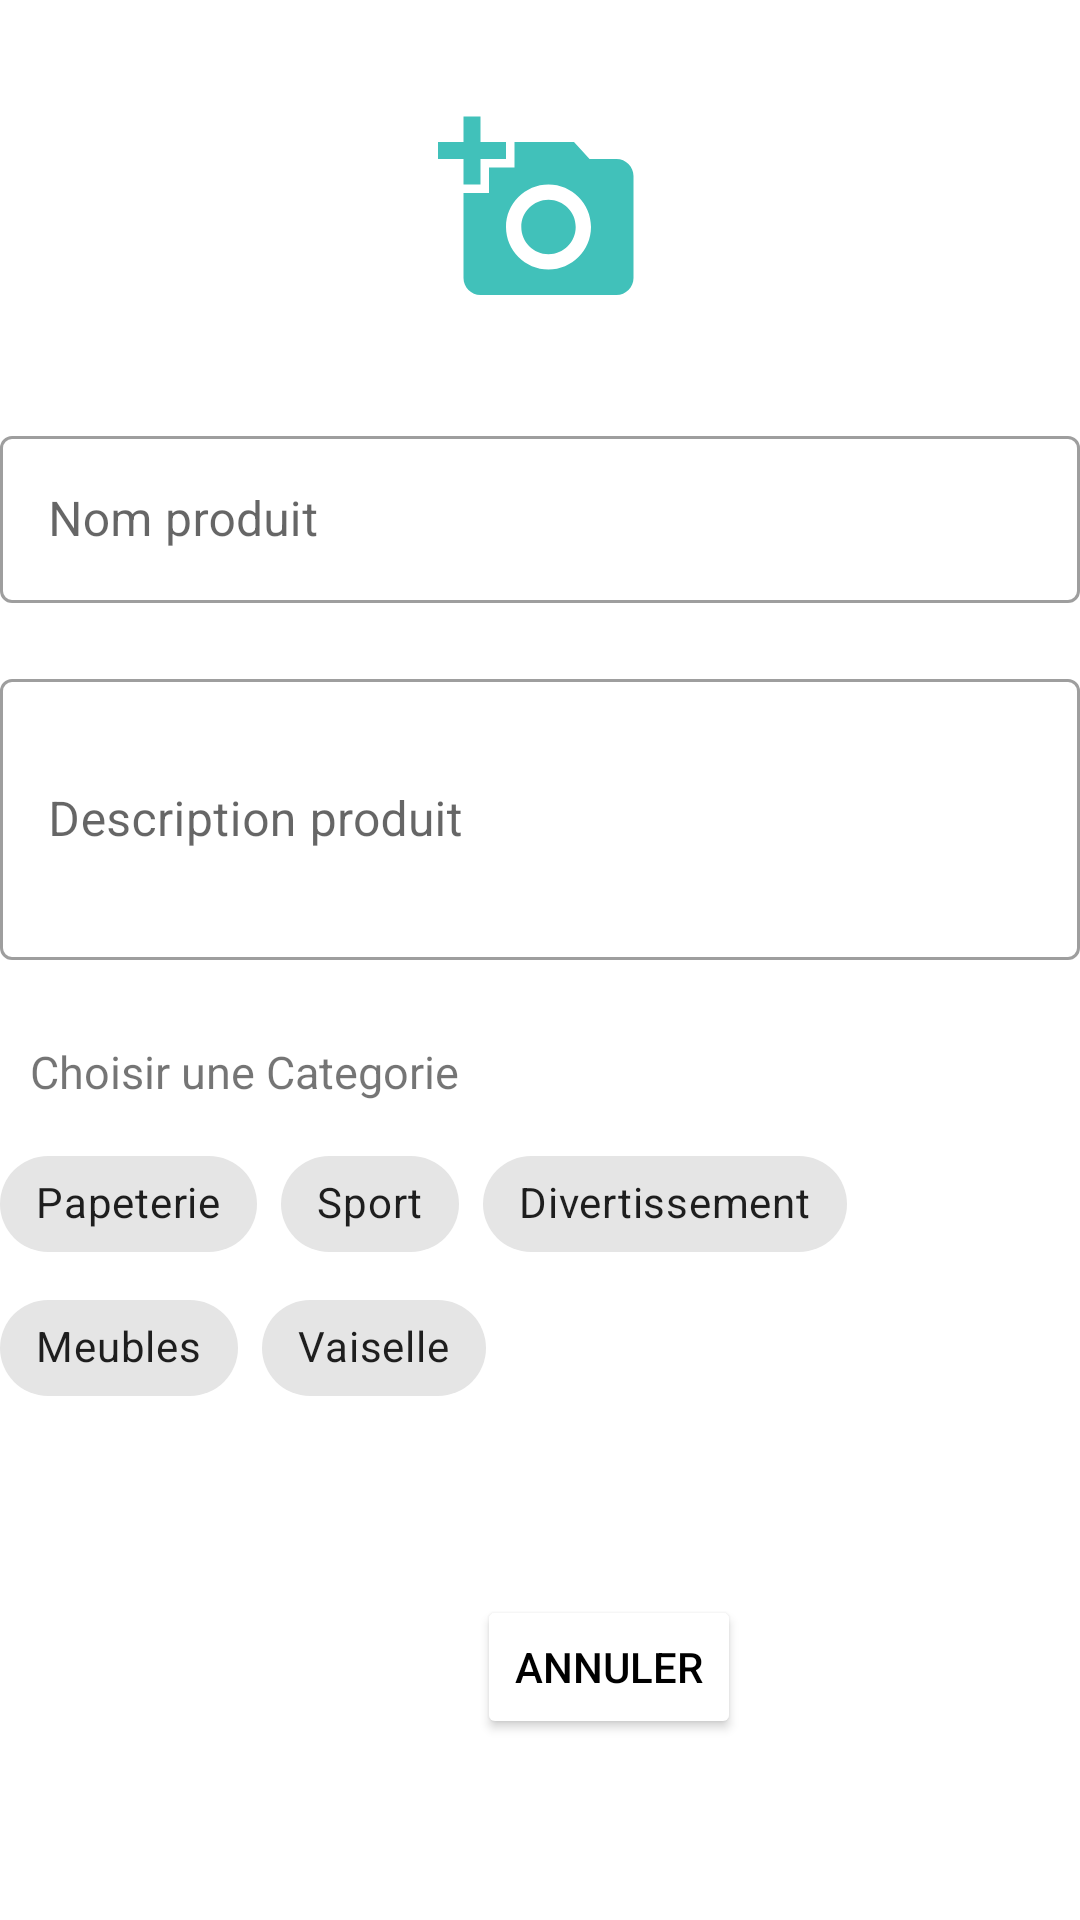

Where icons sit on this 1080 × 1920 app screen, as Rect(x1, y1, x2, y2):
ajout produit: Rect(438, 116, 634, 295)
